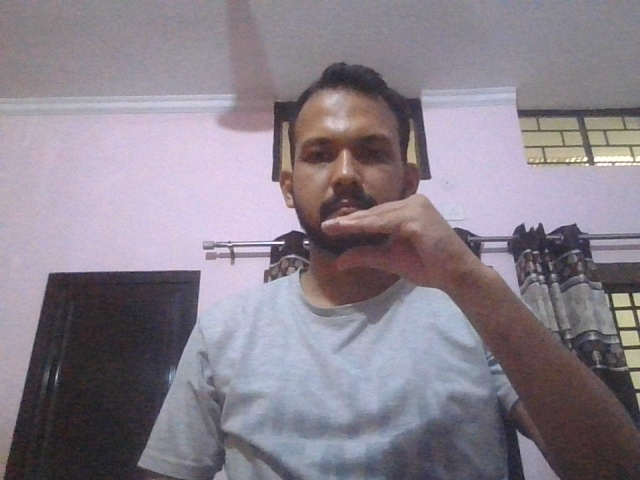no: (320, 196, 478, 291)
